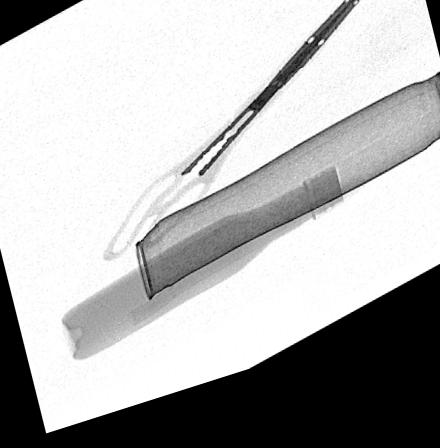Scissors: (103, 2, 372, 269)
